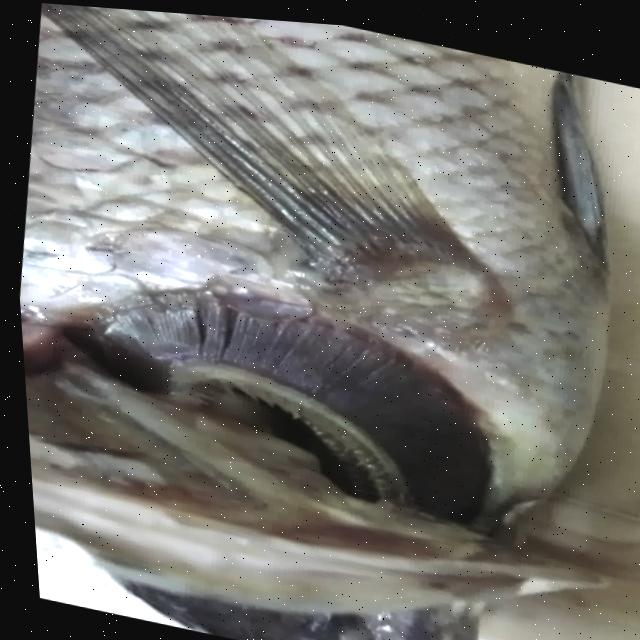Non-Fresh: (57, 245, 527, 521)
